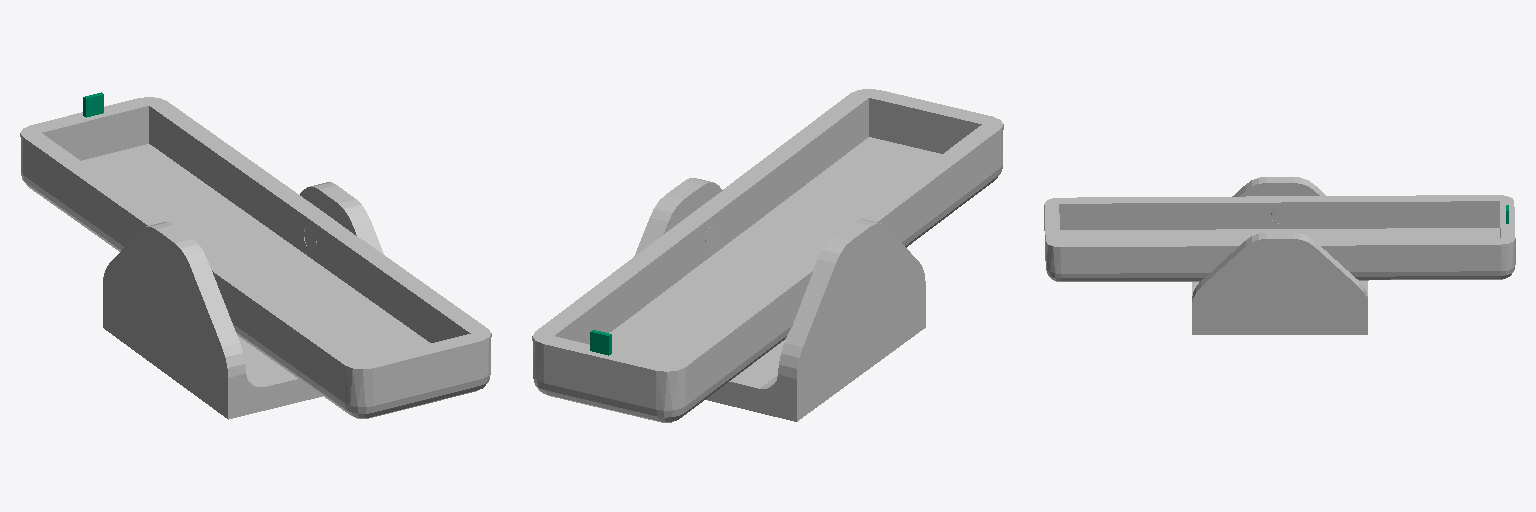
robot.urdf — ball_balancer:
<?xml version="1.0" ?>
<!-- =================================================================================== -->
<!-- |    This document was autogenerated by xacro from model.xacro                    | -->
<!-- |    EDITING THIS FILE BY HAND IS NOT RECOMMENDED                                 | -->
<!-- =================================================================================== -->
<robot name="ball_balancer">
  <gazebo>
    <plugin filename="libgazebo_ros_control.so" name="gazebo_ros_control">
      <robotNamespace>/ball_balancer</robotNamespace>
    </plugin>
  </gazebo>
  <!-- Base Link -->
  <link name="base_link">
    <visual>
      <geometry>
        <mesh filename="package://ball_balancer/meshes/Base_Link.dae"/>
      </geometry>
      <origin rpy="0 0 0" xyz="0 0 0"/>
    </visual>
    <collision>
      <geometry>
        <mesh filename="package://ball_balancer/meshes/Base_Link.dae"/>
      </geometry>
      <origin rpy="0 0 0" xyz="0 0 0"/>
    </collision>
    <inertial>
      <mass value="10"/>
      <inertia ixx="1" ixy="0.0" ixz="0.0" iyy="1" iyz="0.0" izz="1"/>
      <origin rpy="0 0 0" xyz="0 0 0"/>
    </inertial>
  </link>
  <!-- SeeSaw -->
  <link name="seesaw">
    <visual>
      <geometry>
        <mesh filename="package://ball_balancer/meshes/SeeSaw.dae"/>
      </geometry>
      <origin rpy="0 0 1.5707963267948966" xyz="-.015 0 -0.01"/>
    </visual>
    <collision>
      <geometry>
        <mesh filename="package://ball_balancer/meshes/SeeSaw.dae"/>
      </geometry>
      <origin rpy="0 0 1.5707963267948966" xyz="-.015 0 -0.01"/>
    </collision>
    <inertial>
      <mass value="1"/>
      <inertia ixx="1" ixy="0.0" ixz="0.0" iyy="1" iyz="0.0" izz="1"/>
      <origin rpy="0 0 0" xyz="0 0 0"/>
    </inertial>
  </link>
  <!-- Seesaw Joint -->
  <joint name="seesaw_joint" type="revolute">
    <parent link="base_link"/>
    <child link="seesaw"/>
    <limit effort="2" lower="-1.5707963267948966" upper="1.5707963267948966" velocity="5"/>
    <axis rpy="0 0 0" xyz="1 0 0"/>
    <origin rpy="0 0 0" xyz=".015 0 0.02621"/>
  </joint>
  <!-- Joint to Actuator Transmission -->
  <transmission name="simple_trans">
    <type>transmission_interface/SimpleTransmission</type>
    <joint name="seesaw_joint">
      <hardwareInterface>hardware_interface/EffortJointInterface</hardwareInterface>
    </joint>
    <actuator name="motor1">
      <hardwareInterface>hardware_interface/EffortJointInterface</hardwareInterface>
      <mechanicalReduction>1</mechanicalReduction>
    </actuator>
  </transmission>
  <!-- Ultrasonic sensor -->
  <link name="ultrasonic_sensor">
    <visual>
      <geometry>
        <box size=".005 .00125 .005"/>
      </geometry>
    </visual>
    <collision>
      <geometry>
        <box size=".005 .00125 .005"/>
      </geometry>
    </collision>
  </link>
  <!-- Ultrasonic Joint -->
  <joint name="ultrasonic_joint" type="fixed">
    <parent link="seesaw"/>
    <child link="ultrasonic_sensor"/>
    <origin rpy="0 0 0" xyz="-0.015 .0775 .0075"/>
  </joint>
  <!-- Ultrasonic sensor definition -->
  <gazebo reference="ultrasonic_sensor">
    <sensor name="sonar" type="ray">
      <pose>0 0 0 0 0 -1.5707963267948966</pose>
      <visualize>true</visualize>
      <update_rate>5</update_rate>
      <ray>
        <scan>
          <horizontal>
            <samples>5</samples>
            <resolution>.5</resolution>
            <min_angle>-0.20</min_angle>
            <max_angle>0.20</max_angle>
          </horizontal>
        </scan>
        <range>
          <min>0.001</min>
          <!-- Looks like minimum range for Ultrasonic sensor is 1mm -->
          <max>0.75</max>
          <resolution>0.0001</resolution>
        </range>
      </ray>
      <plugin filename="libgazebo_ros_range.so" name="gazebo_ros_range">
        <gaussianNoise>0</gaussianNoise>
        <alwaysOn>true</alwaysOn>
        <updateRate>5</updateRate>
        <topicName>sonar</topicName>
        <frameName>ultrasonic_sensor</frameName>
        <fov>0.5</fov>
        <radiation>ultrasound</radiation>
      </plugin>
    </sensor>
  </gazebo>
</robot>

--- What the picture shows (computed from the rendered views, not written in the file) ---
The picture shows the robot from 3 angles, left to right: view 1: azimuth 30°, elevation 25°; view 2: azimuth 150°, elevation 25°; view 3: azimuth 270°, elevation 25°; orthographic projection.
Robot: ball_balancer — 3 links, 2 joints (1 revolute, 1 fixed); root link base_link; default pose: every joint at zero.
Visible links, largest first — view 1: seesaw, base_link; view 2: seesaw, base_link; view 3: seesaw, base_link.
Link boxes in pixels (x1=…): seesaw: x1=20, y1=97, x2=491, y2=418; base_link: x1=103, y1=182, x2=383, y2=419; seesaw: x1=532, y1=89, x2=1003, y2=422; base_link: x1=634, y1=178, x2=925, y2=421; seesaw: x1=1044, y1=195, x2=1515, y2=281; base_link: x1=1192, y1=177, x2=1367, y2=334.
Bounding box of the posed robot: 0.05 × 0.1604 × 0.0362 m (x, y, z).
Meshes: 2 distinct files referenced, 2 mesh visuals loaded (2 Collada DAE).
